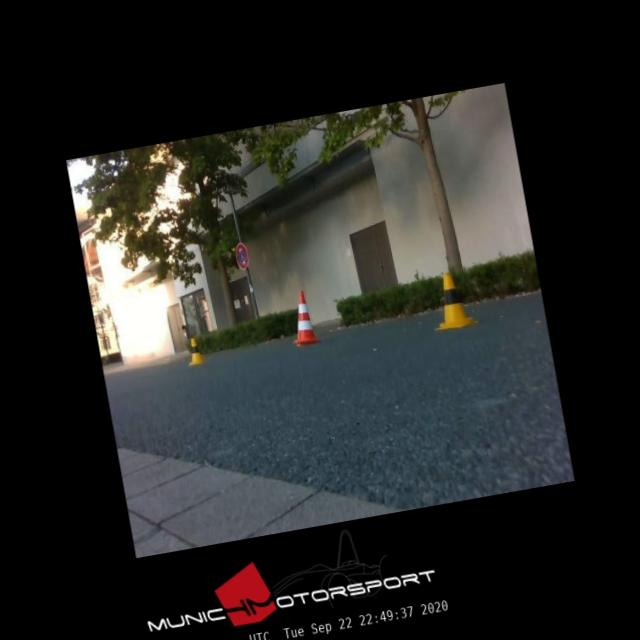large_orange_cone: (284, 288, 318, 344)
yellow_cone: (427, 270, 478, 332), (184, 337, 206, 365)
